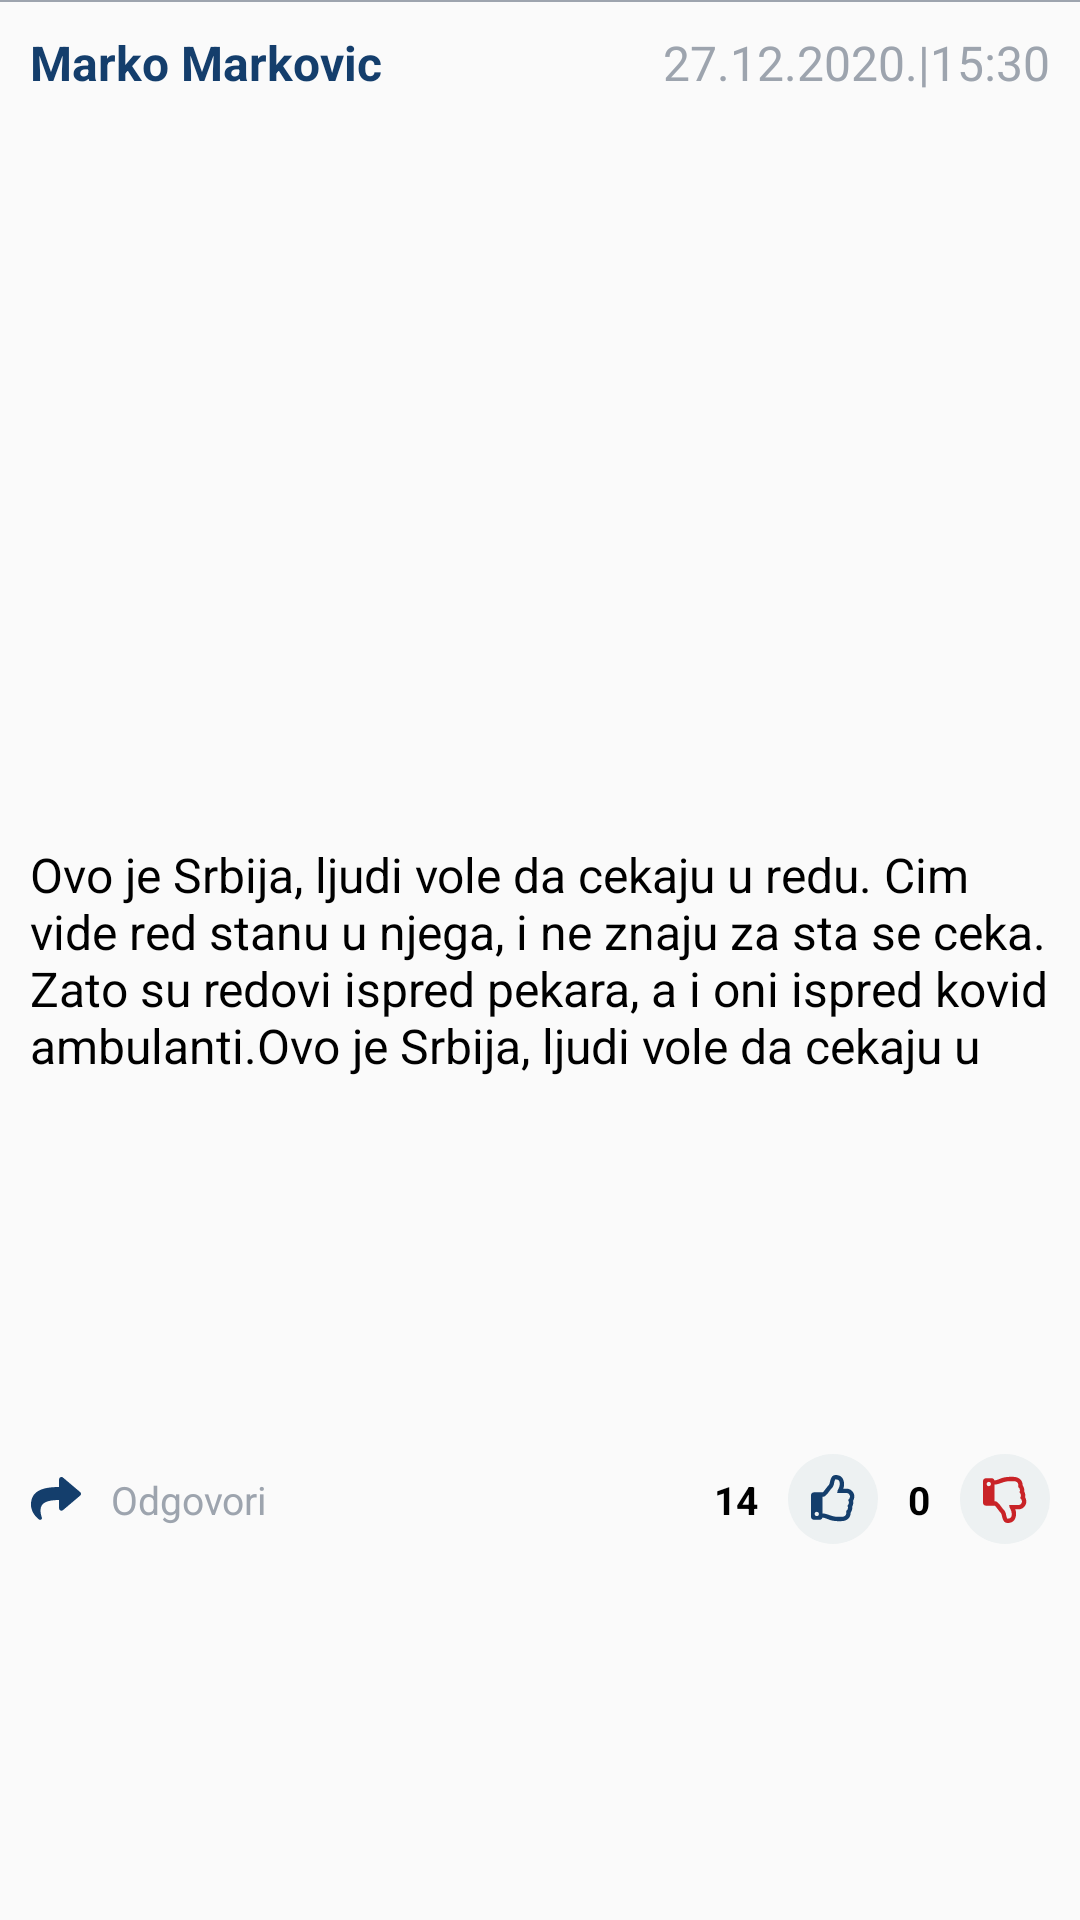

Where icons sit on this 1080 x 1920 app screen, as (x1, y1, x2, y2):
thumbs down: (983, 1476, 1027, 1523)
thumbs up: (811, 1475, 855, 1522)
